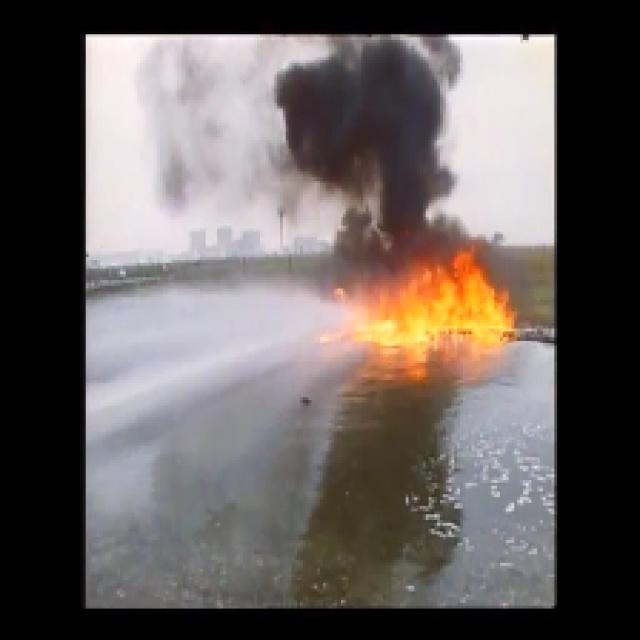fire: (378, 266, 513, 332)
smoke: (377, 47, 446, 254), (299, 63, 372, 170)
